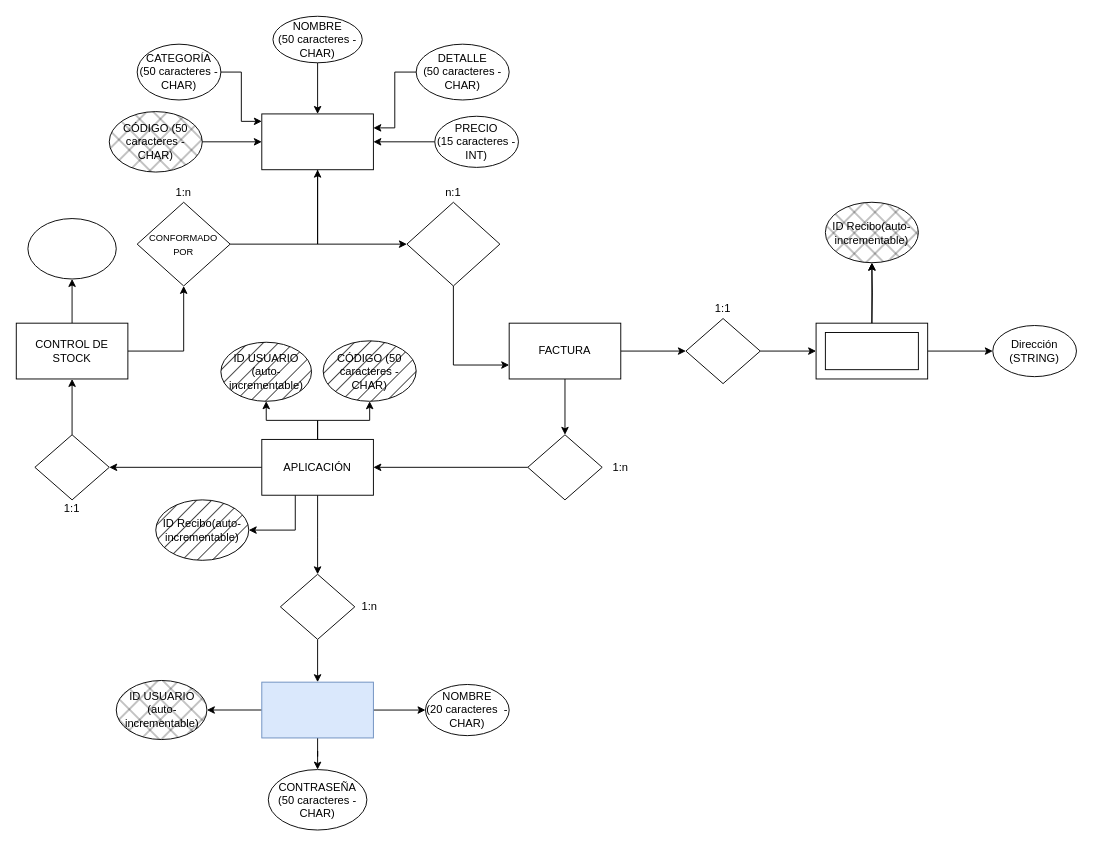
Some shapes in this 1093 by 846 pixel diagram are drawn without their labels. The shapes that lost their labels are listed below. From the top down, each one's box as (x1, y1, x2, y2) in pixels, then its label:
(261, 113, 373, 170): PRODUCTO
(27, 218, 116, 279): CODIGO(50 caracteres - CHAR)
(406, 201, 500, 286): CONFORMA
(685, 318, 760, 384): GENERA
(815, 322, 928, 379): RECIBO
(34, 434, 109, 500): TIENE
(527, 434, 602, 500): CREADA
(279, 573, 355, 639): USA
(261, 681, 373, 738): USUARIO
